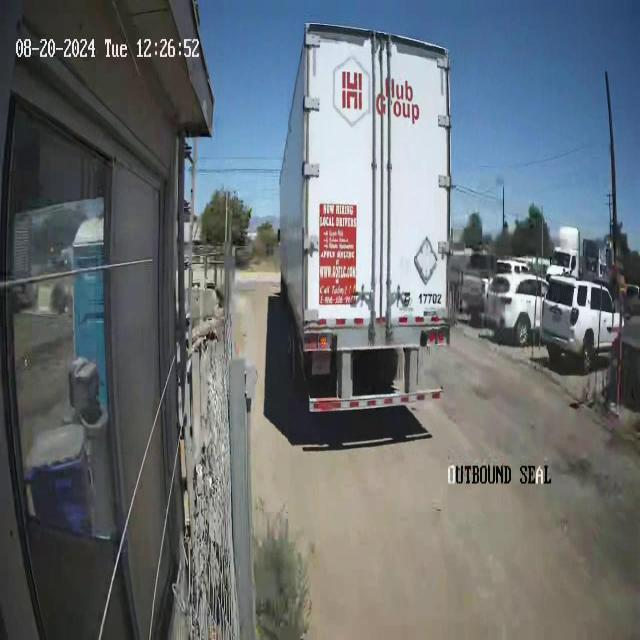TRUCK_OUT: (277, 20, 453, 408)
